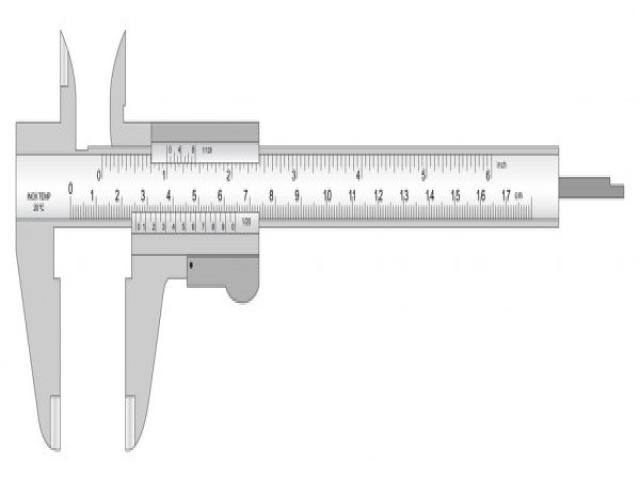Calipers: (15, 35, 624, 450)
